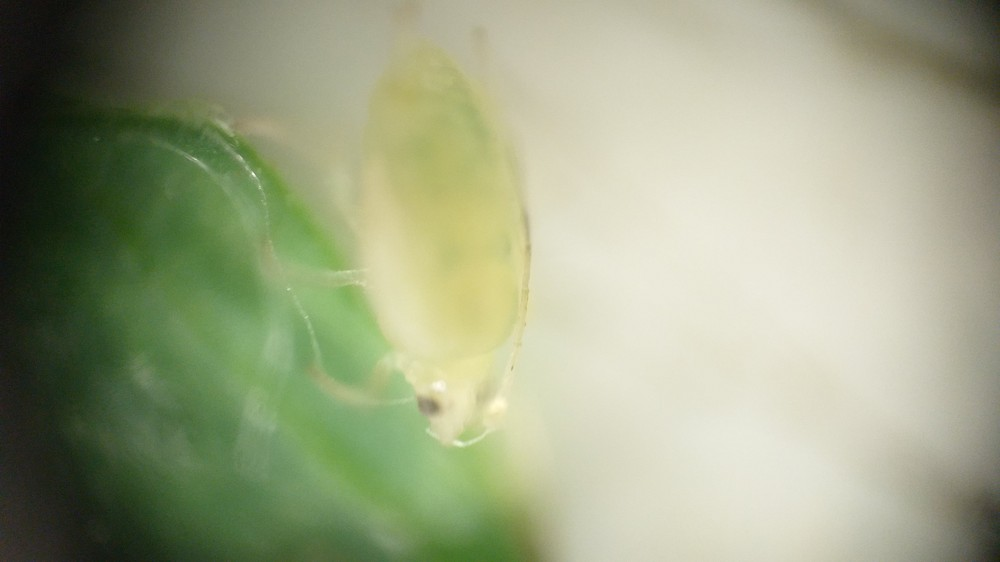Pulgon: (284, 9, 562, 475)
